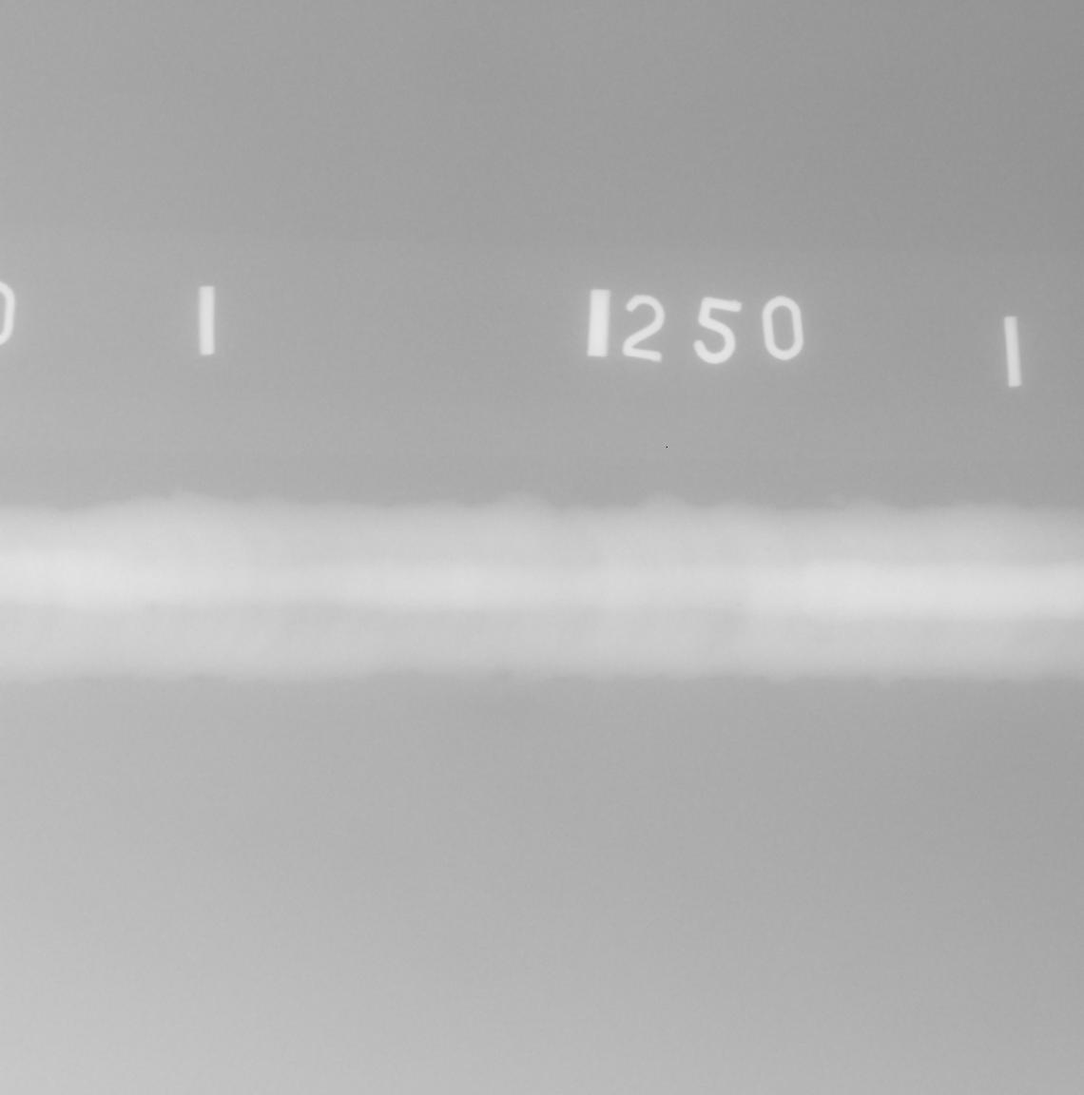Pore/Porosity: (764, 546, 770, 551), (735, 603, 740, 607)
